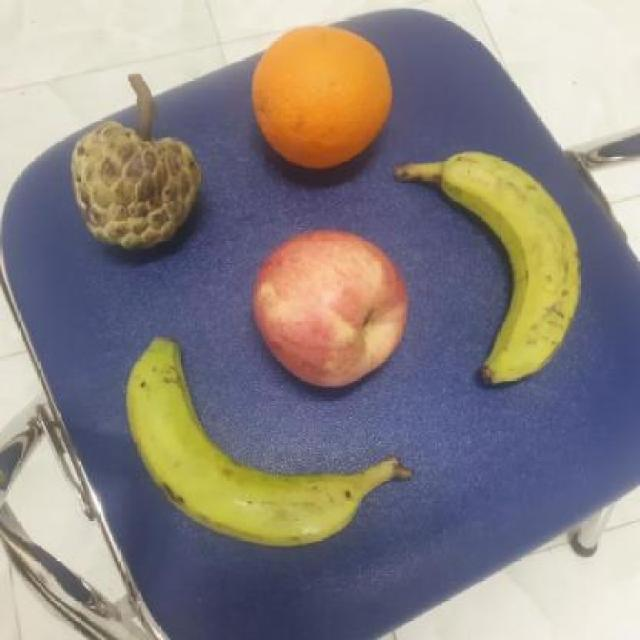apple: (243, 224, 429, 401)
banana: (125, 334, 416, 545), (386, 149, 597, 400)
oren: (248, 23, 402, 166)
sugar apple: (66, 117, 215, 255)
